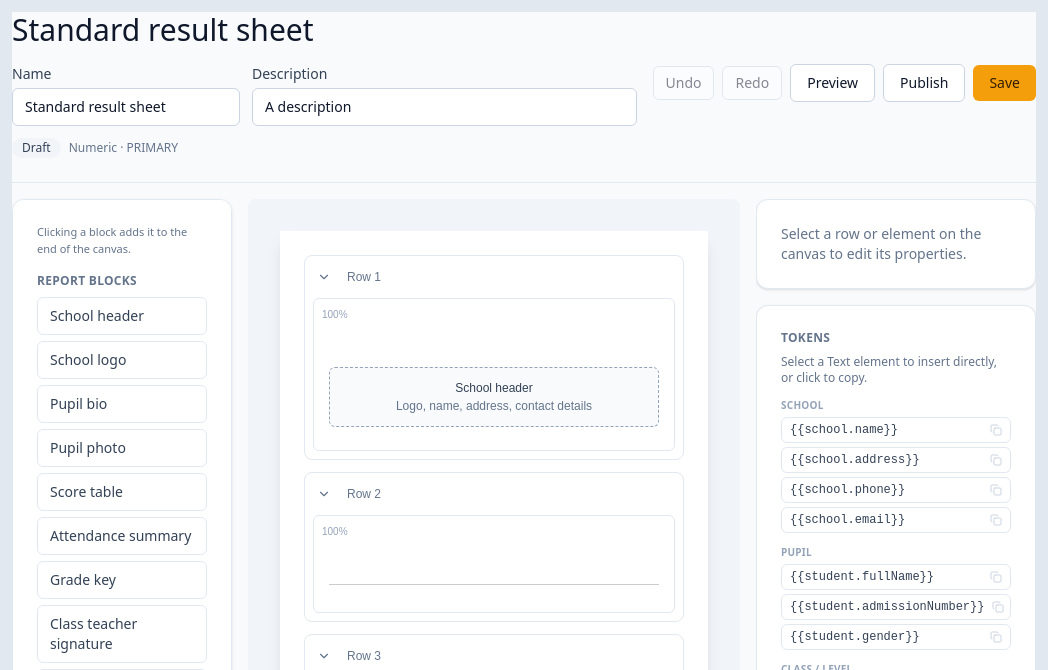
TemplateDesignerPage › clicking a palette block appends it to the canvas and marks the template dirty
Check: the field showing "Standard result sheet" is shown, box [12,88,240,126]
Check: the button "Undo" is disabled, box [652,66,714,100]
Step 1. Click the button "Attendance summary" → [122, 536], box [37,517,207,555]
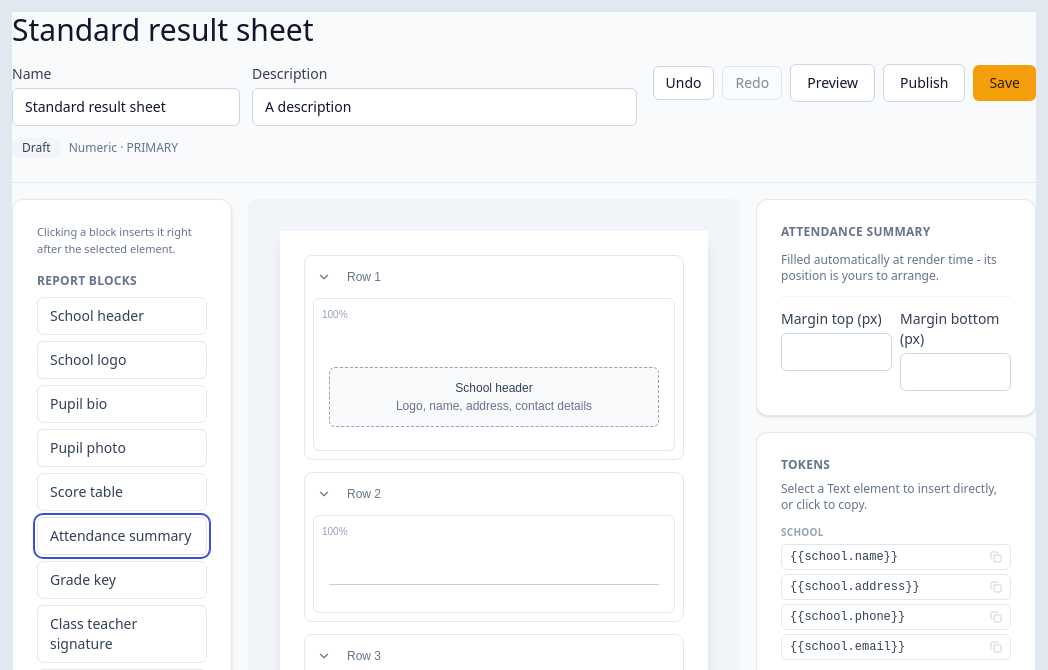
Check: the button "Undo" is enabled, box [652,66,714,100]
